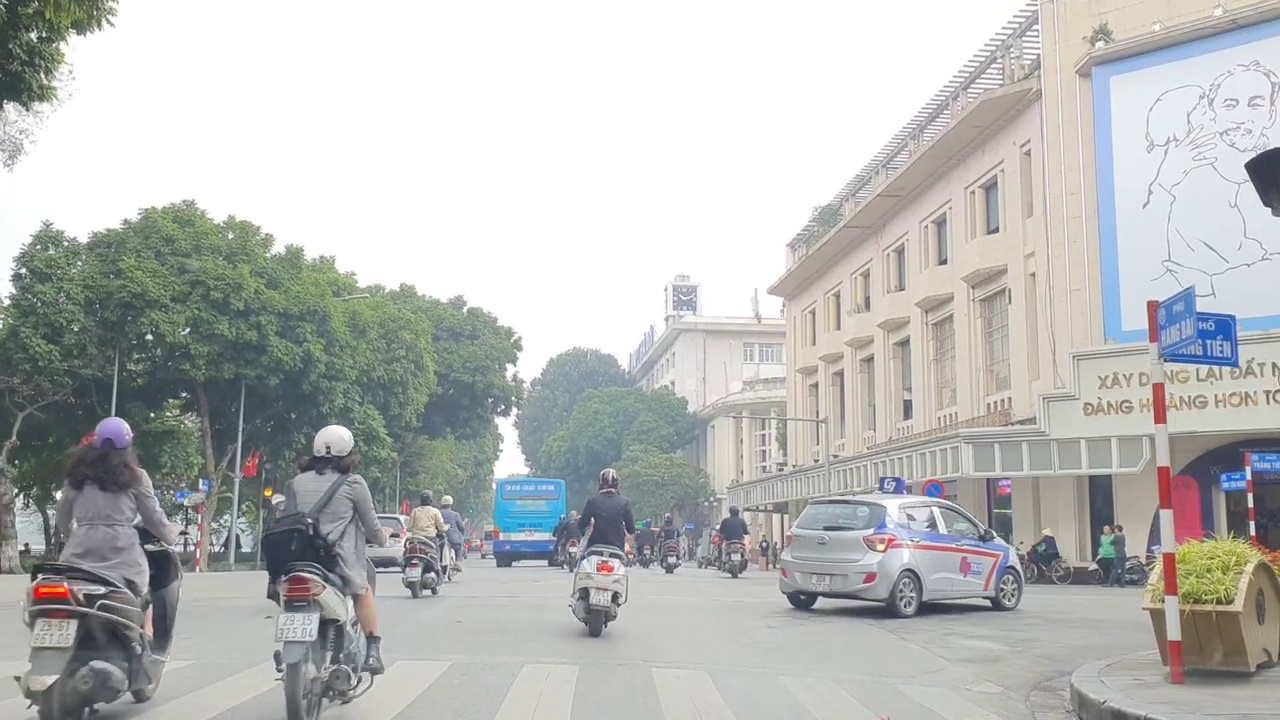vehicle-plate: (272, 608, 321, 642), (33, 618, 70, 644), (590, 585, 613, 606), (403, 564, 423, 578)
